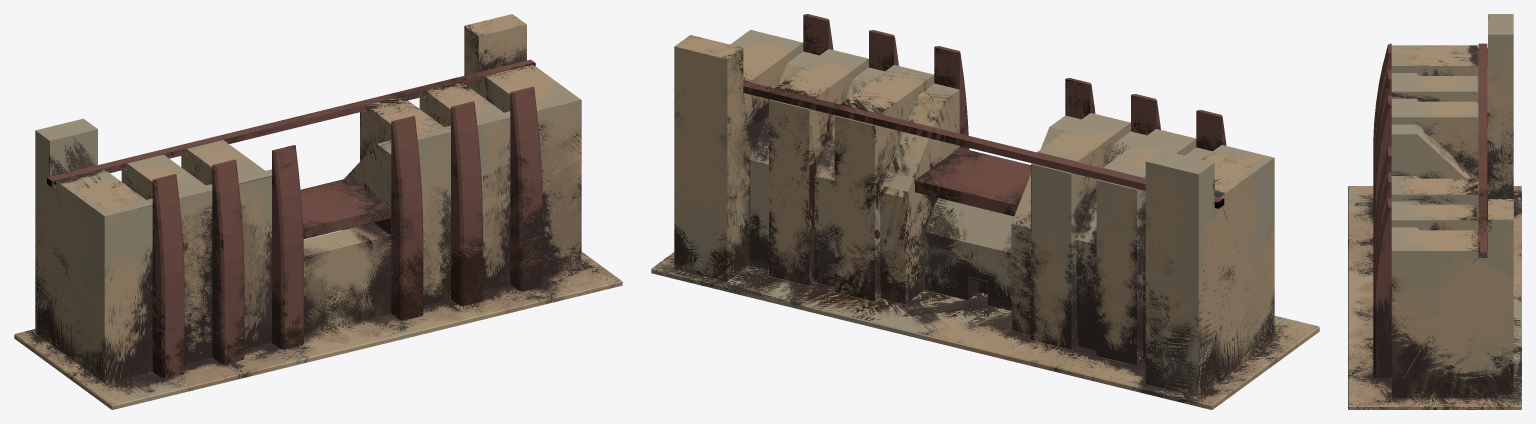
The picture shows the model from 3 angles, left to right: view 1: azimuth 30°, elevation 25°; view 2: azimuth 150°, elevation 25°; view 3: azimuth 270°, elevation 25°; orthographic projection. The views are drawn at different scales.
Visible parts, largest first — view 1: 6x2A; view 2: 6x2A; view 3: 6x2A.
Part boxes in pixels (left/top/right/bottom): 6x2A: left=14, top=14, right=622, bottom=409; 6x2A: left=651, top=14, right=1319, bottom=409; 6x2A: left=1348, top=14, right=1521, bottom=409.
Size of the model in its own units: 6 by 2.32 by 2.
2 materials, 2 textured.
